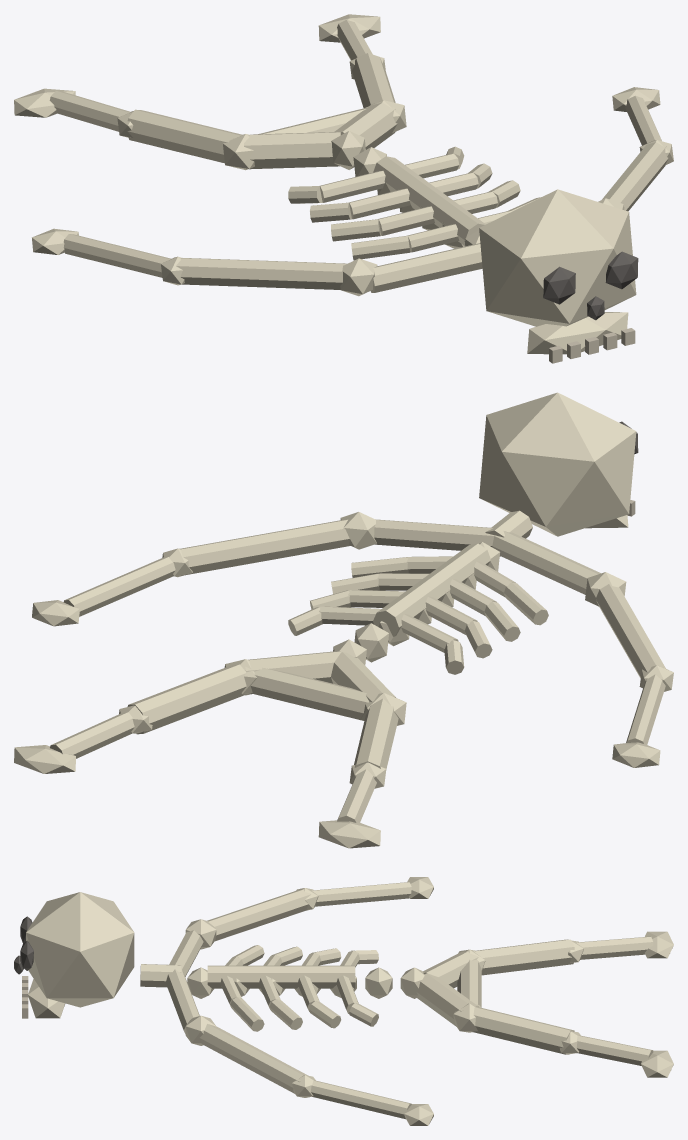
Rendered from bones.glb.
3 views of the same model, one above another, from view 1: azimuth 30°, elevation 25°; view 2: azimuth 150°, elevation 25°; view 3: azimuth 270°, elevation 25° (orthographic). The views are drawn at different scales.
Parts seen in each view (by area): view 1: cranium, upper_arm_-1, femur_-1, hip_-1, sternum, collar_-1, jaw, forearm_-1, upper_arm_1, shin_-1, femur_1, hip_1 (+24 smaller); view 2: cranium, upper_arm_1, femur_1, pelvis_bridge, sternum, collar_1, collar_-1, upper_arm_-1, forearm_1, femur_-1, shin_1, hip_1 (+22 smaller); view 3: cranium, sternum, femur_1, upper_arm_1, femur_-1, upper_arm_-1, forearm_1, forearm_-1, hip_1, shin_1, shin_-1, collar_1 (+22 smaller).
Part boxes in pixels (x1,y1,x2,y2): cranium: (479,189,636,326); upper_arm_-1: (176,258,346,289); femur_-1: (127,109,242,163); hip_-1: (244,132,340,169); sternum: (373,156,485,245); collar_-1: (370,243,482,292); jaw: (527,312,628,354); forearm_-1: (63,234,170,277); upper_arm_1: (602,142,668,211); shin_-1: (49,90,130,131); femur_1: (352,53,395,108); hip_1: (334,102,397,149); cranium: (479,392,636,536); upper_arm_1: (180,519,350,575); femur_1: (127,664,246,734); pelvis_bridge: (251,667,368,720); sternum: (373,543,490,636); collar_1: (374,519,495,550); collar_-1: (492,531,600,594); upper_arm_-1: (595,584,665,678); forearm_1: (63,556,175,616); femur_-1: (354,698,398,768); shin_1: (50,712,134,758); hip_1: (245,651,340,694); cranium: (26,892,134,1007); sternum: (207,965,355,988); femur_1: (472,1007,574,1054); upper_arm_1: (200,1024,307,1093); femur_-1: (474,939,574,975); upper_arm_-1: (207,889,311,941); forearm_1: (310,1080,411,1119); forearm_-1: (312,882,411,906); hip_1: (416,973,478,1026); shin_1: (576,1035,653,1065); shin_-1: (576,936,653,959); collar_1: (165,969,199,1033).
Size of the model in its own units: 0.8626 by 0.199 by 0.9833.
